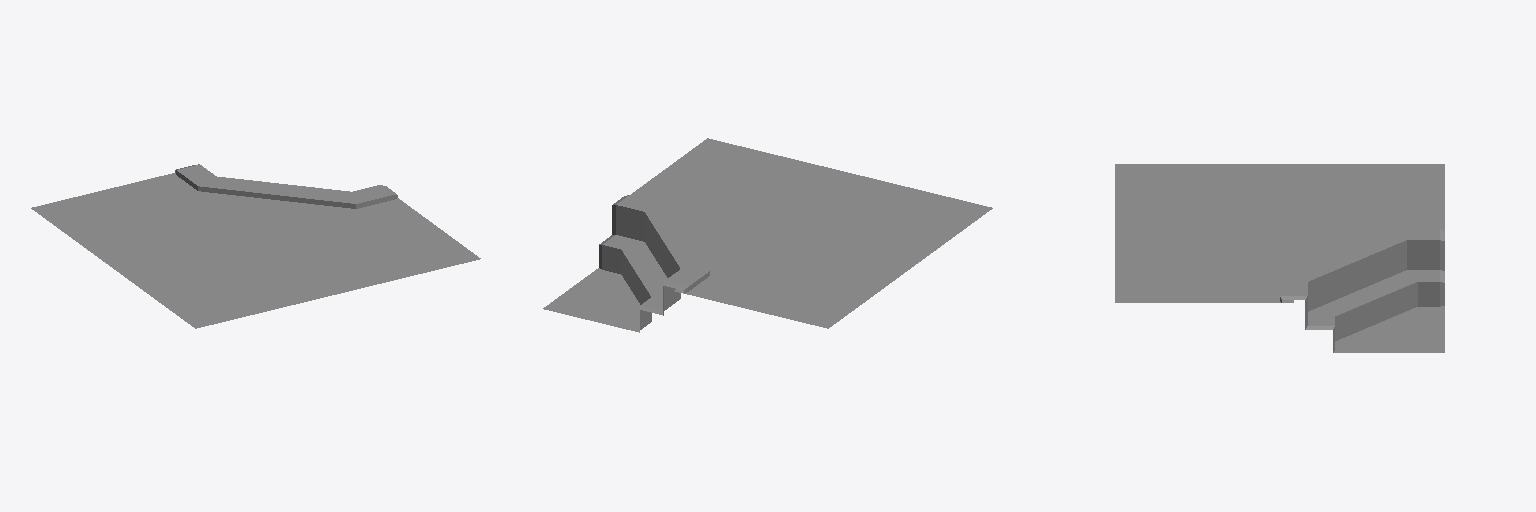
The model's file is Sunken_Floor_Inside.obj.
The picture shows the model from 3 angles: view 1: azimuth 30°, elevation 25°; view 2: azimuth 150°, elevation 25°; view 3: azimuth 270°, elevation 25°; orthographic projection.
Visible parts, largest first — view 1: Palette; view 2: Palette; view 3: Palette.
Part boxes in pixels (x1,y1,x2,y2): Palette: (31,164,480,328); Palette: (543,138,992,332); Palette: (1115,164,1444,352).
Bounding box in the file's own units: 6 × 1.1 × 6.